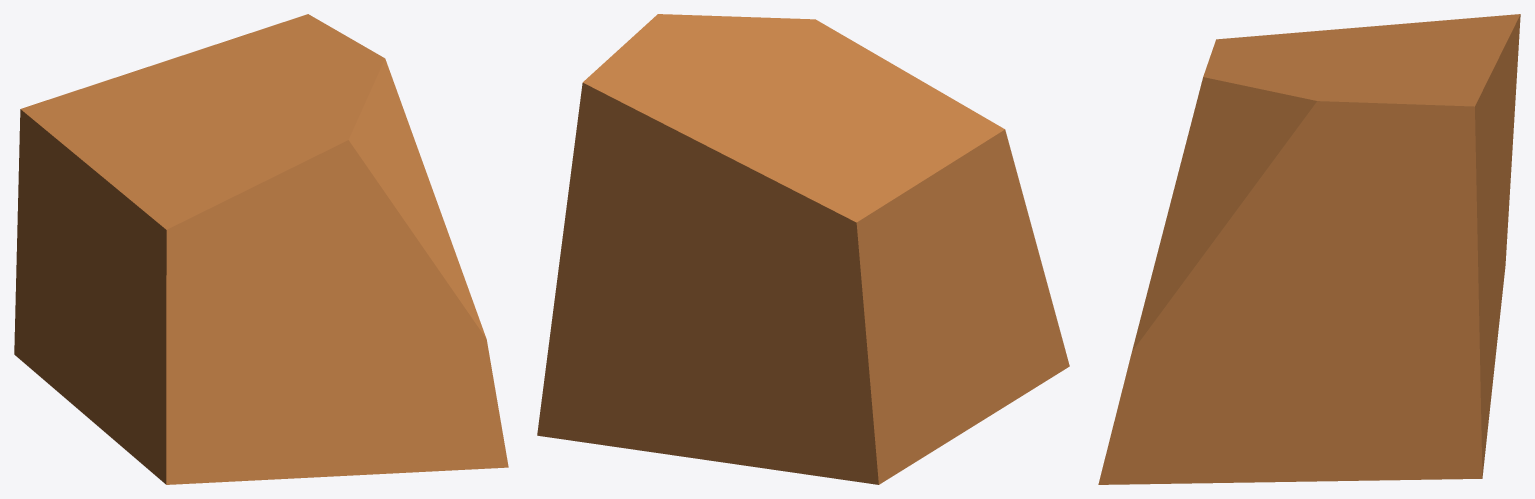
The model's file is Rubble_1.fbx.
The picture shows the model from 3 angles, left to right: view 1: azimuth 30°, elevation 25°; view 2: azimuth 150°, elevation 25°; view 3: azimuth 270°, elevation 25°; orthographic projection. The views are drawn at different scales.
Parts seen in each view (by area): view 1: 立方体.036; view 2: 立方体.036; view 3: 立方体.036.
Part boxes in pixels (x1,y1,x2,y2): 立方体.036: (14,14,508,484); 立方体.036: (537,14,1069,484); 立方体.036: (1098,14,1520,484).
Size of the model in its own units: 28.1 by 28.87 by 28.03.
